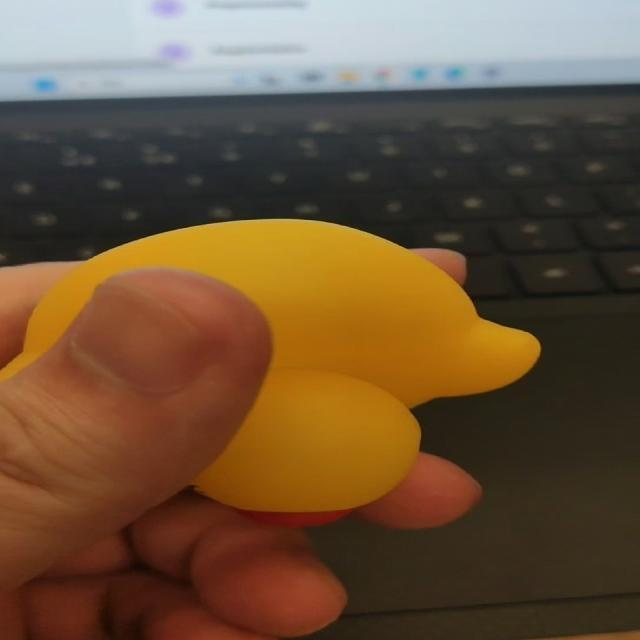rubber-duck: (0, 218, 538, 511)
